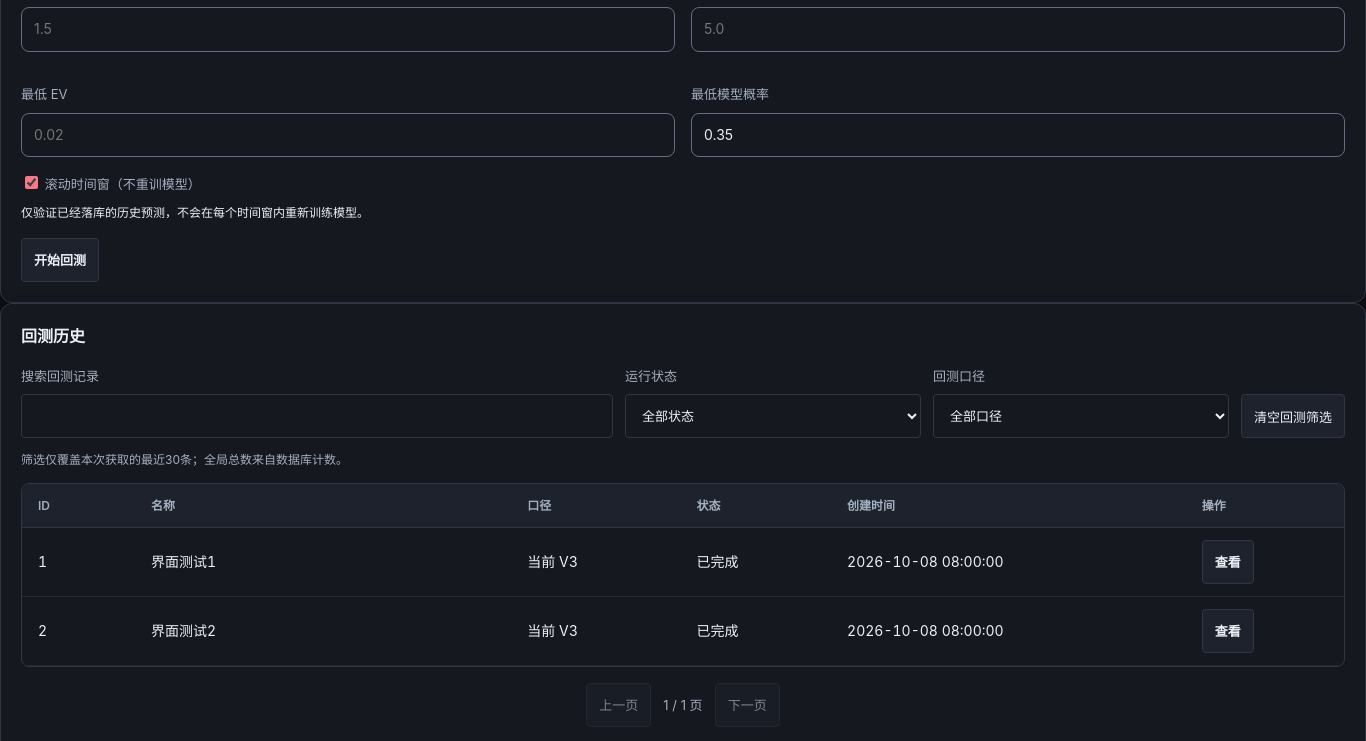
Test: BacktestPage evidence isolation › 拒绝与所选运行不一致的详情
The width and height of the screenshot is (1366, 741).
(page scrolled)
Click the button "查看" in the row of "界面测试1": (1228, 562) [1202,540,1254,584]
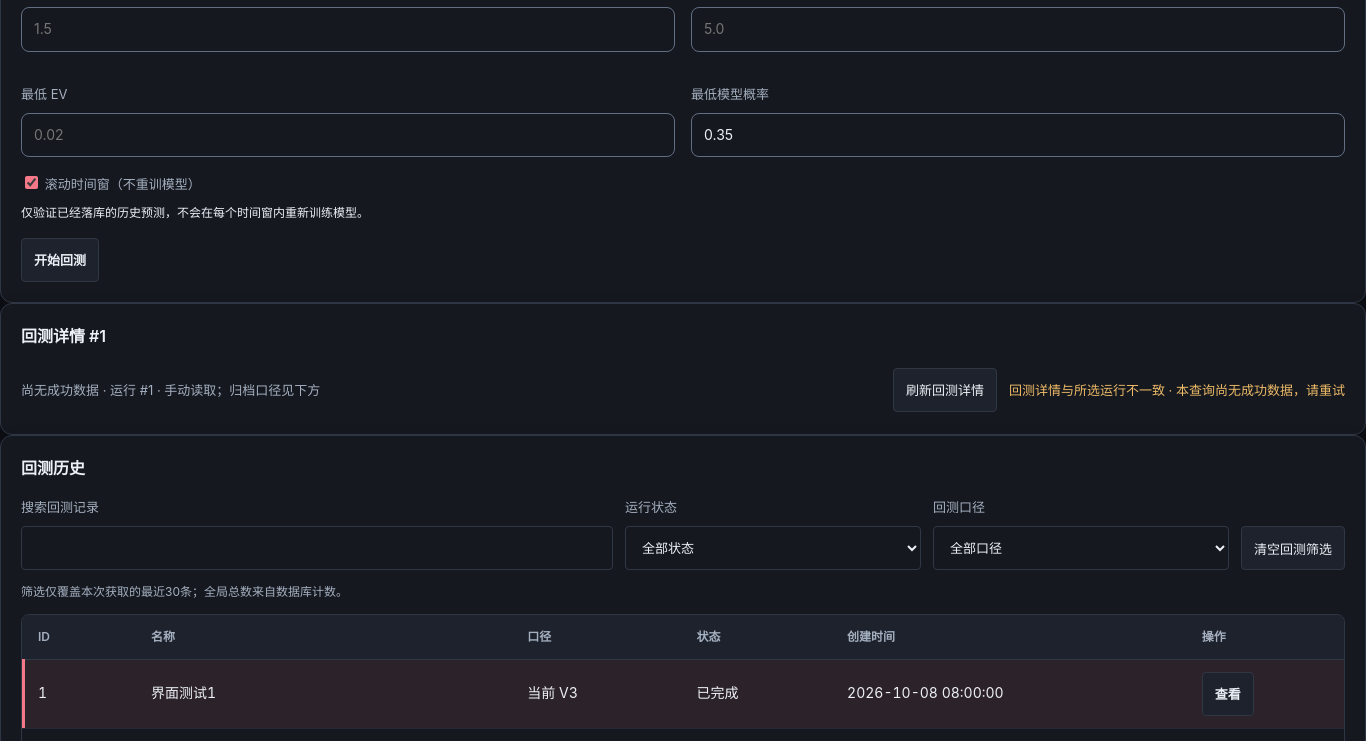
Check: the text "回测详情与所选运行不一致 · 本查询尚无成功数据，请重试" is shown, box [1009,378,1345,401]
